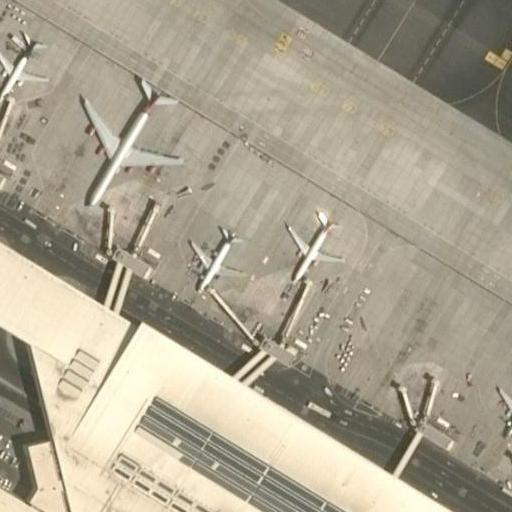Aircraft: (74, 59, 178, 209), (283, 210, 343, 285), (182, 227, 247, 289), (0, 24, 49, 100), (496, 368, 512, 434)
